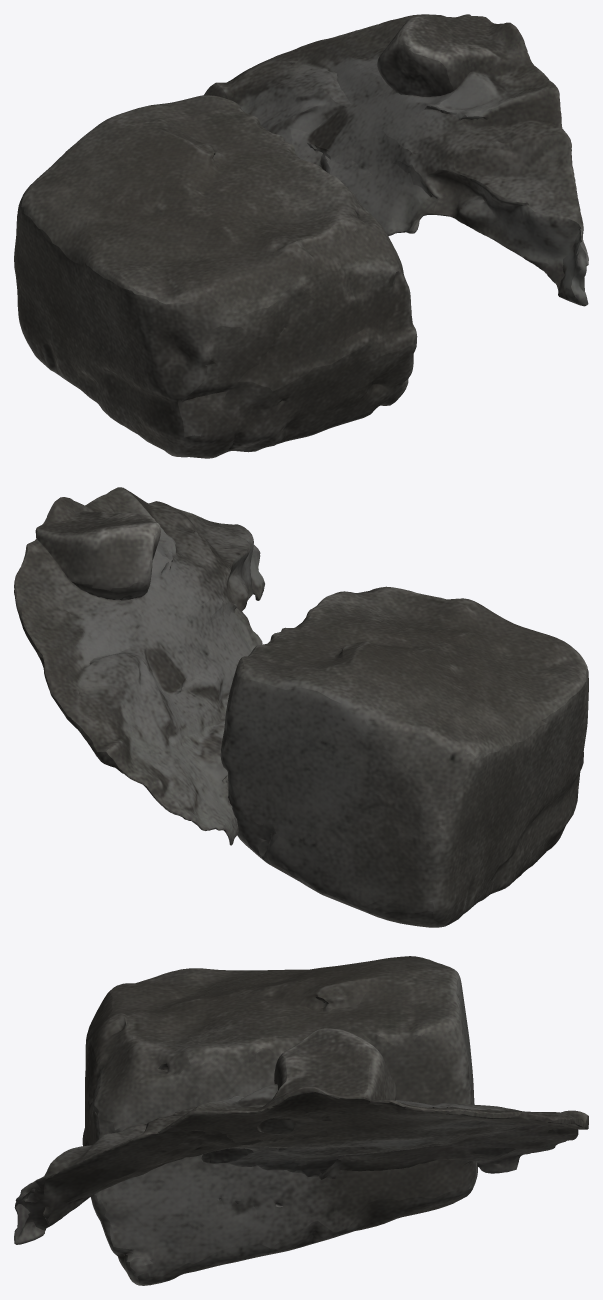
The picture shows the model from 3 angles, top to bottom: view 1: azimuth 30°, elevation 25°; view 2: azimuth 150°, elevation 25°; view 3: azimuth 270°, elevation 25°; orthographic projection. The views are drawn at different scales.
Visible parts, largest first — view 1: world; view 2: world; view 3: world.
Boxes of the visible parts, left/top/right/bottom form: world: left=14, top=14, right=588, bottom=458; world: left=14, top=487, right=588, bottom=927; world: left=14, top=956, right=588, bottom=1285.
Bounding box in the file's own units: 1.2 × 0.7569 × 1.2.
Materials: 1 (1 with a texture image).
